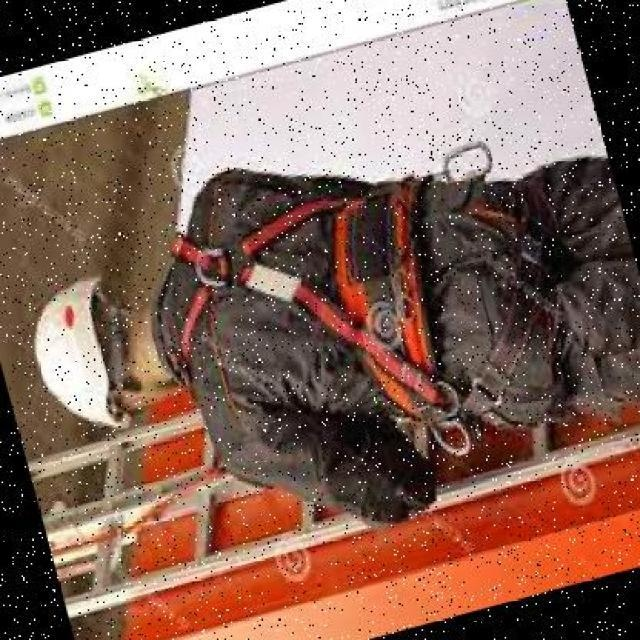Arnes_seguridad: (130, 112, 609, 518)
